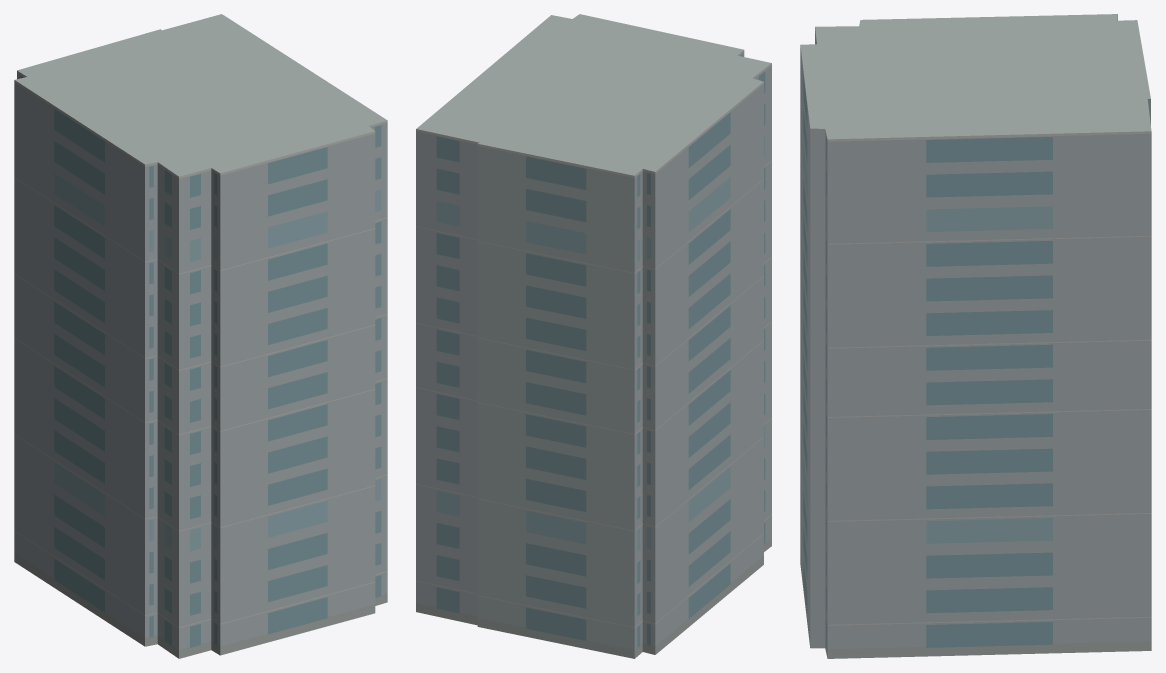
The model's file is survey-upis-32487967.glb.
The picture shows the model from 3 angles, left to right: view 1: azimuth 30°, elevation 25°; view 2: azimuth 150°, elevation 25°; view 3: azimuth 270°, elevation 25°; orthographic projection. The views are drawn at different scales.
Visible parts, largest first — view 1: survey-upis-32487967.tmp; view 2: survey-upis-32487967.tmp; view 3: survey-upis-32487967.tmp.
Boxes of the visible parts, x1,y1,x2,y2 form: survey-upis-32487967.tmp: (14,14,387,658); survey-upis-32487967.tmp: (416,14,771,658); survey-upis-32487967.tmp: (800,14,1151,658).
Size of the model in its own units: 27.45 by 53 by 32.48.
